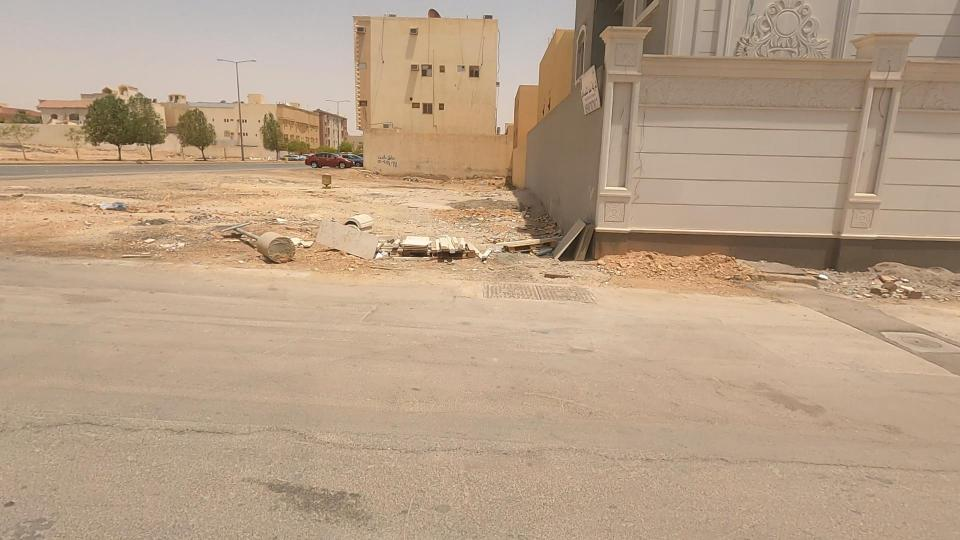GARBAGE: (445, 179, 641, 300), (328, 189, 489, 293), (181, 188, 328, 291), (277, 180, 409, 281)
